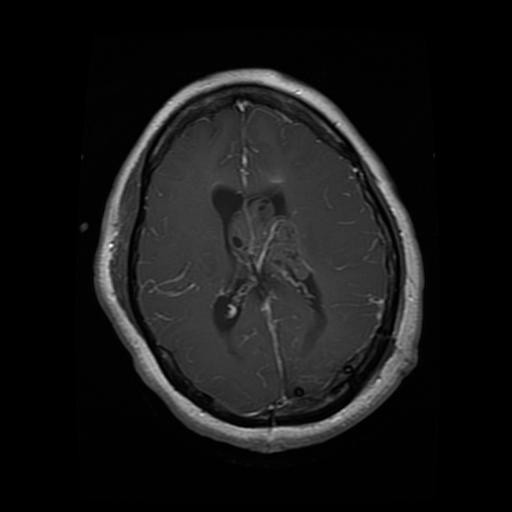Gliomia_tumour: (228, 196, 313, 308)
